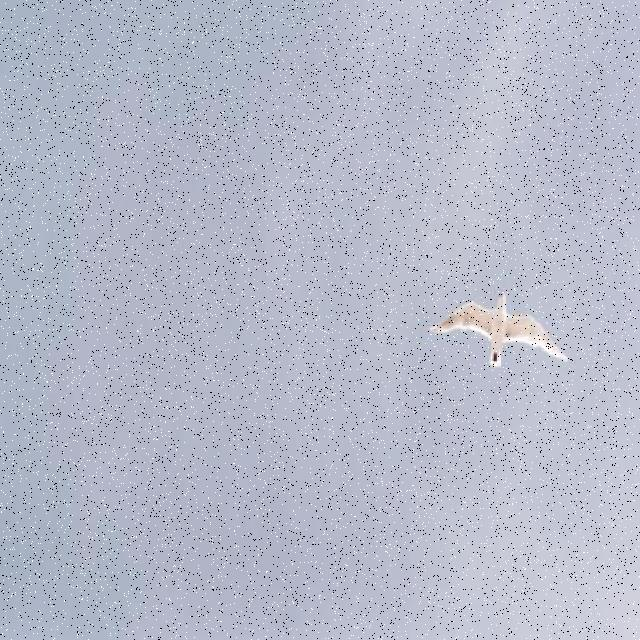bird: (429, 289, 568, 368)
